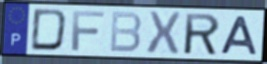A: (218, 15, 260, 57)
B: (108, 10, 144, 54)
D: (29, 8, 70, 53)
F: (70, 10, 106, 53)
R: (184, 12, 222, 57)
X: (145, 9, 183, 56)
